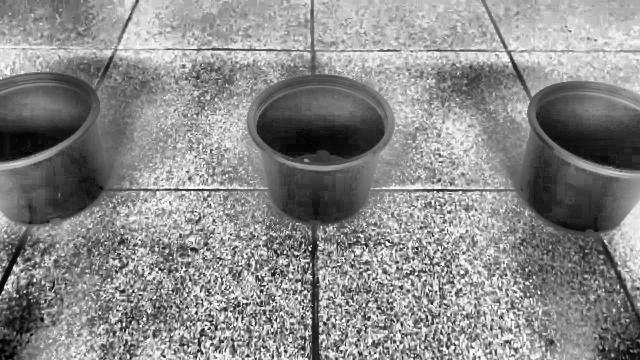pot: (246, 75, 395, 224), (518, 81, 640, 234), (0, 72, 108, 226)
